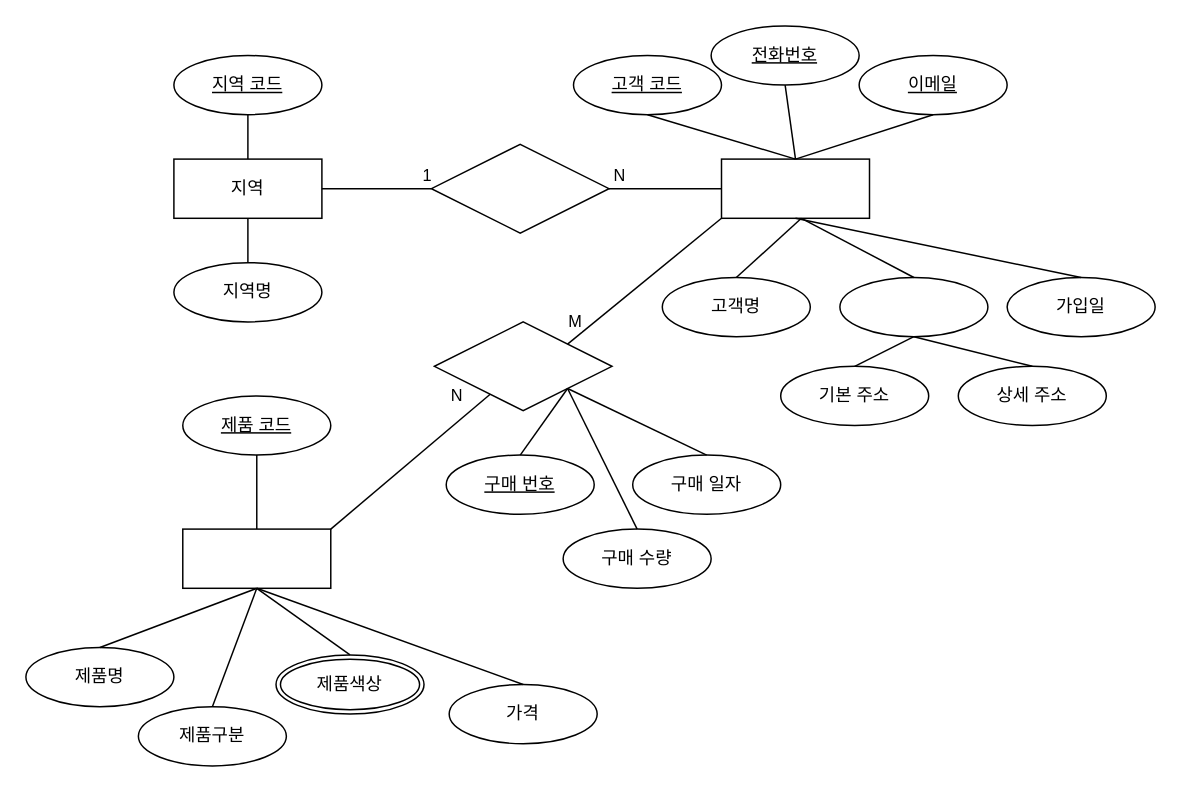
Some shapes in this 1181 by 792 pixel diagram are drawn without their labels. The centre of each missing label's shape, as x and y in pixels:
"고객" belongs at (x=795, y=188).
"관리" belongs at (x=519, y=188).
"구매" belongs at (x=522, y=365).
"제품" belongs at (x=256, y=558).
"주소" belongs at (x=913, y=306).
